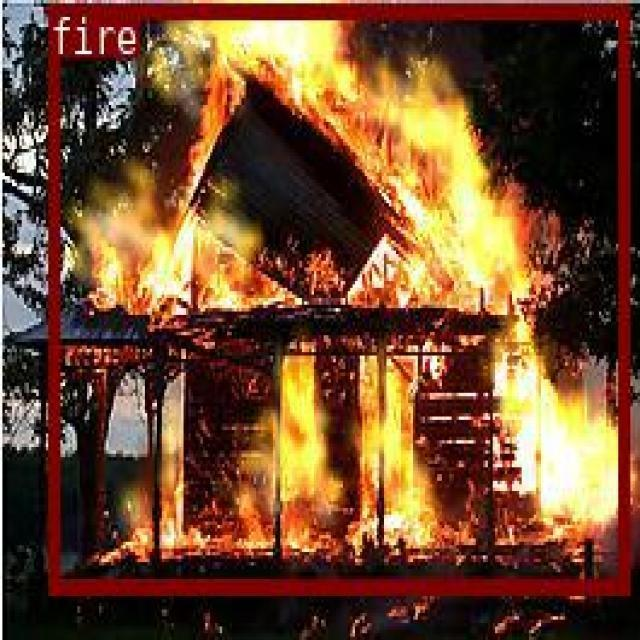fire: (47, 0, 627, 589)
